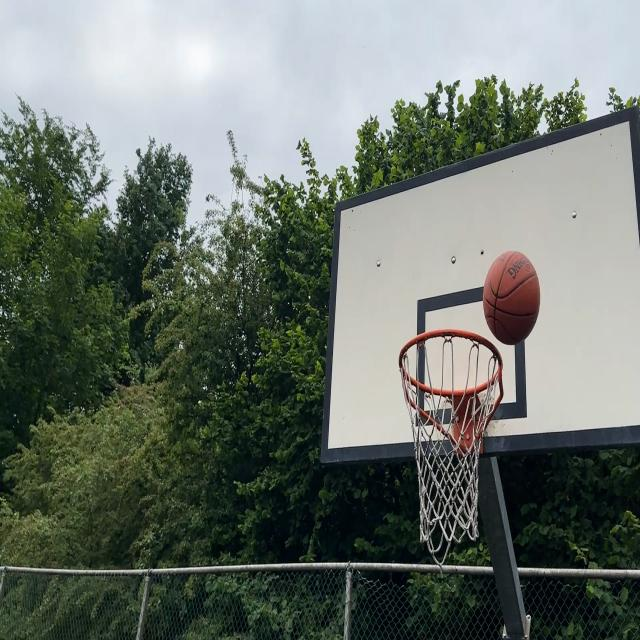Basketball: (482, 251, 539, 345)
